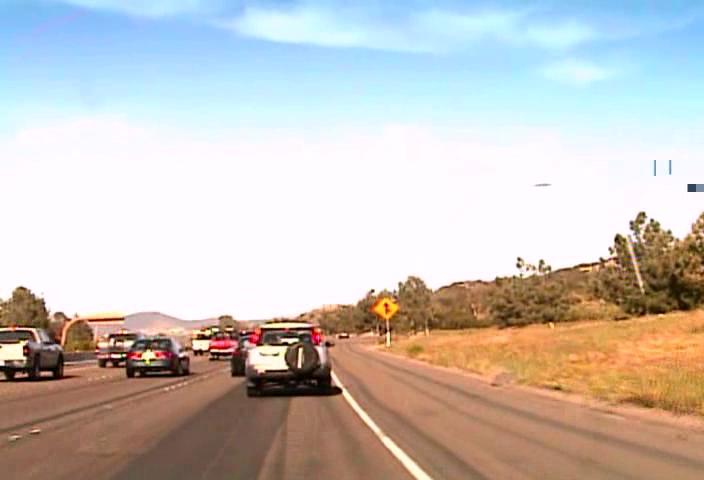merge: (371, 295, 398, 320)
